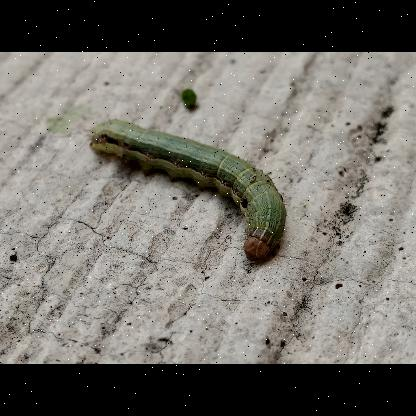Fall Armyworm Larvae: (82, 112, 294, 266)
